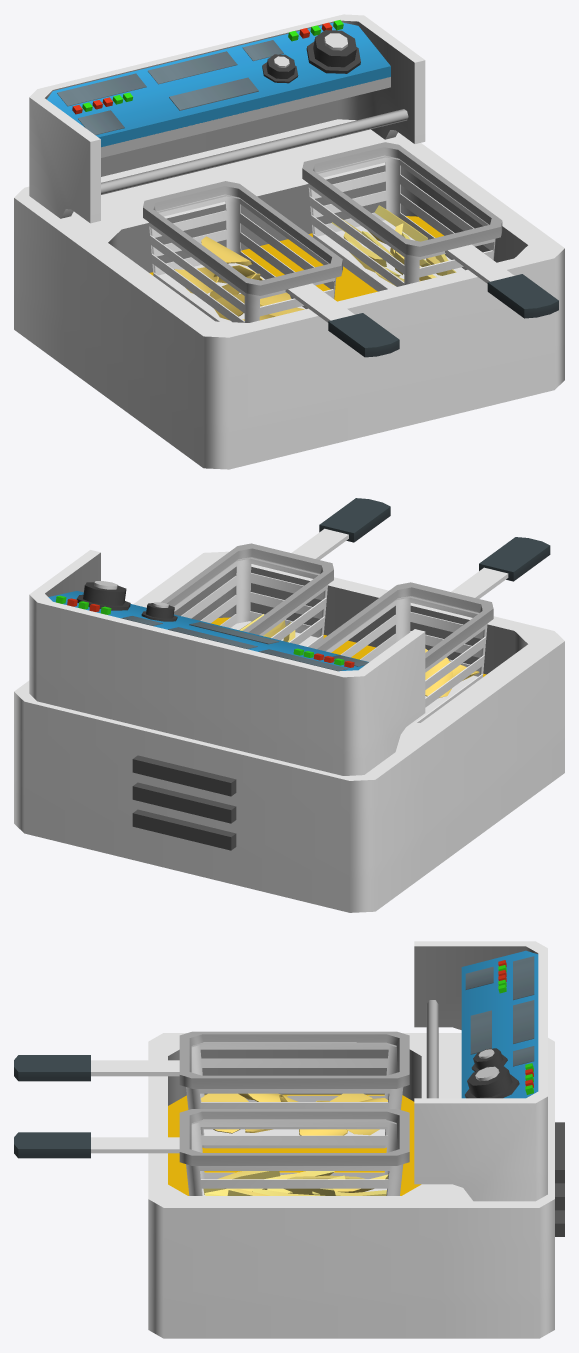
Rendered from Map02_Bepchien_LV4.fbx.
3 views of the same model, one above another, from view 1: azimuth 30°, elevation 25°; view 2: azimuth 150°, elevation 25°; view 3: azimuth 270°, elevation 25° (orthographic).
Visible parts, largest first — view 1: Map02_Bepchien_LV4; view 2: Map02_Bepchien_LV4; view 3: Map02_Bepchien_LV4.
Part boxes in pixels (<box>): Map02_Bepchien_LV4: <box>14,14,564,469</box>; Map02_Bepchien_LV4: <box>14,498,564,912</box>; Map02_Bepchien_LV4: <box>14,941,564,1338</box>.
Size of the model in its own units: 107 by 67.67 by 142.
